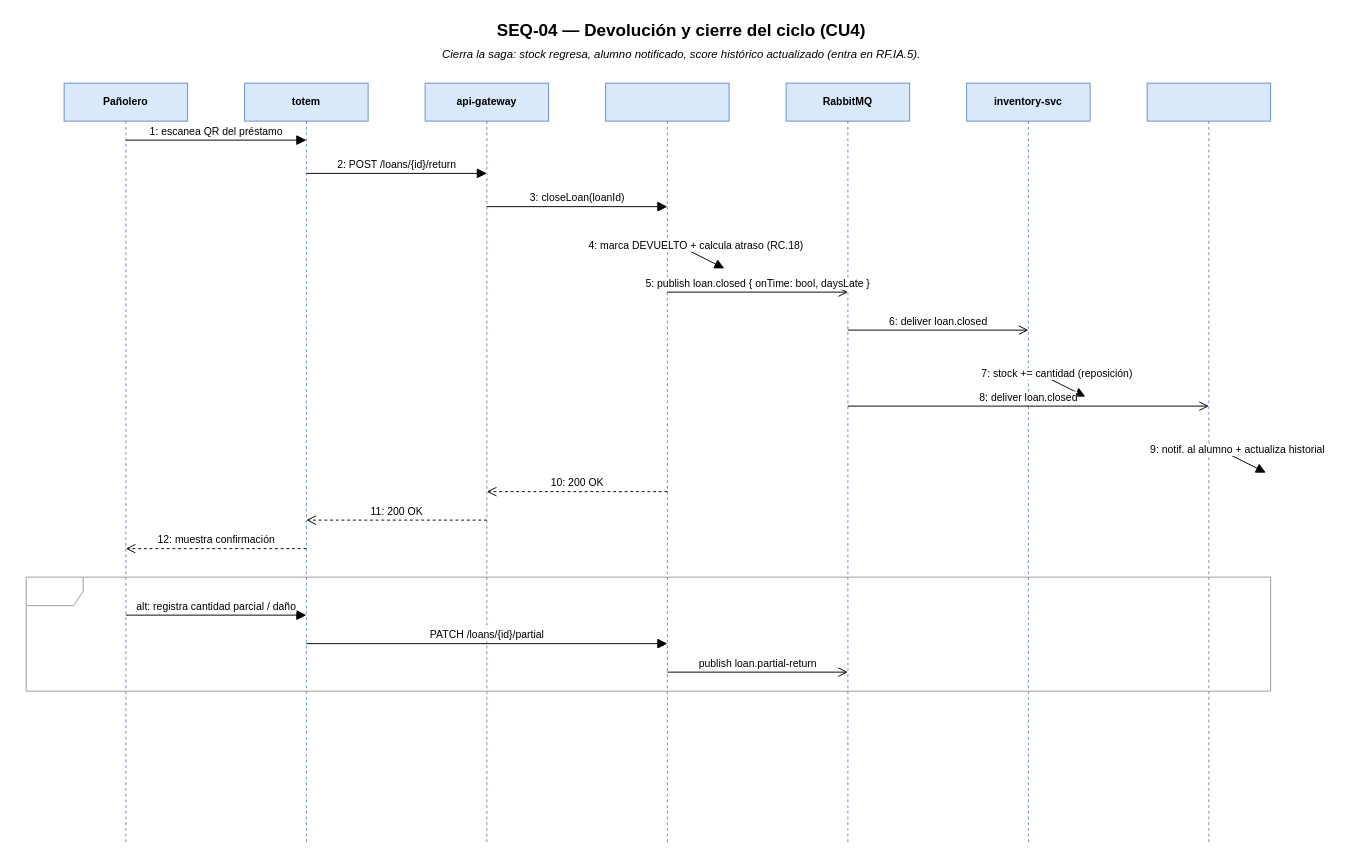
This 1362x860 diagram has some shape labels left out. Here are the shapes that lost their labels. From the top down, the box of each, then its label:
(605, 82, 729, 843): loan-svc
(1146, 82, 1271, 843): notification-svc
(25, 576, 1271, 691): opt — devolución parcial / con daños
